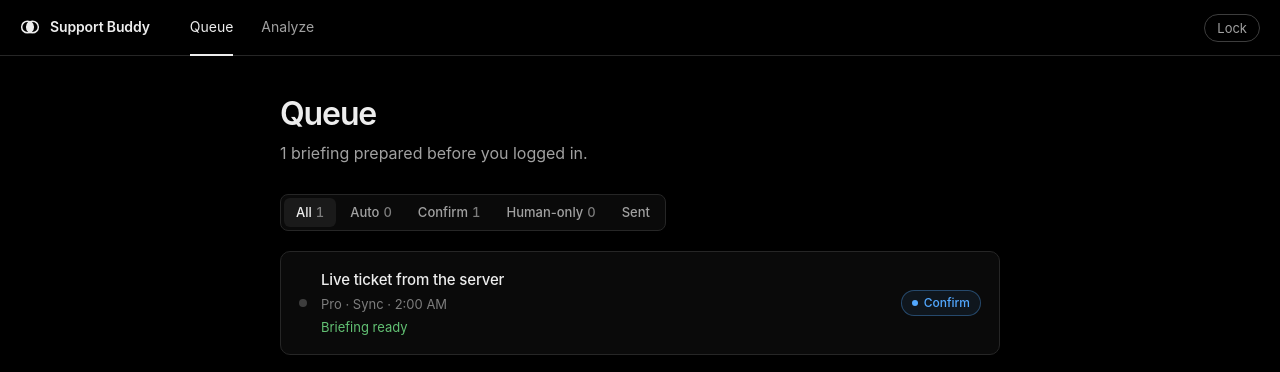
Scenario: unlocking live data › locks again on request: forgets the key and returns to demo data
The width and height of the screenshot is (1280, 372).
What coordinates should you click on to do the following:
click the button "Lock"
I would click on:
 (1232, 28)
Its box is [1204,14,1260,42].
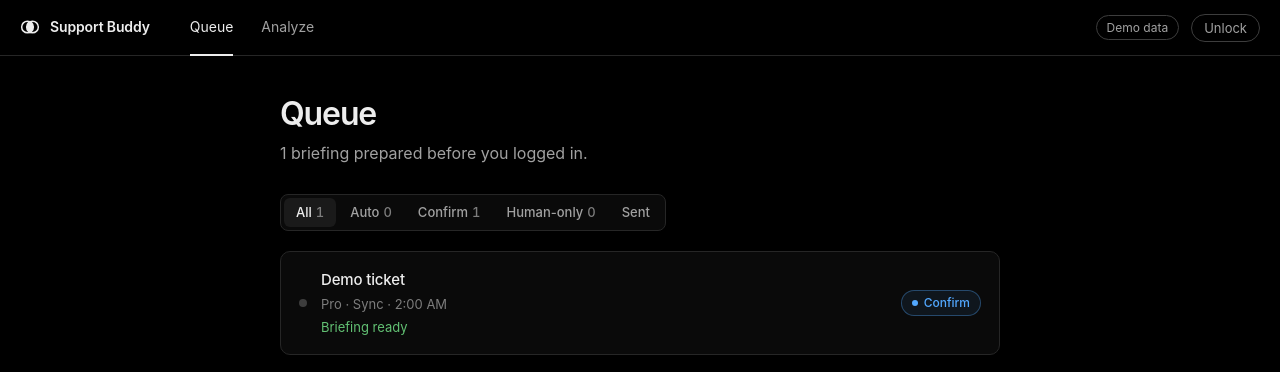
expect the heading "Demo ticket" is shown: met, box [321,270,405,289]
expect the button "Unlock" is shown: met, box [1191,14,1260,42]
